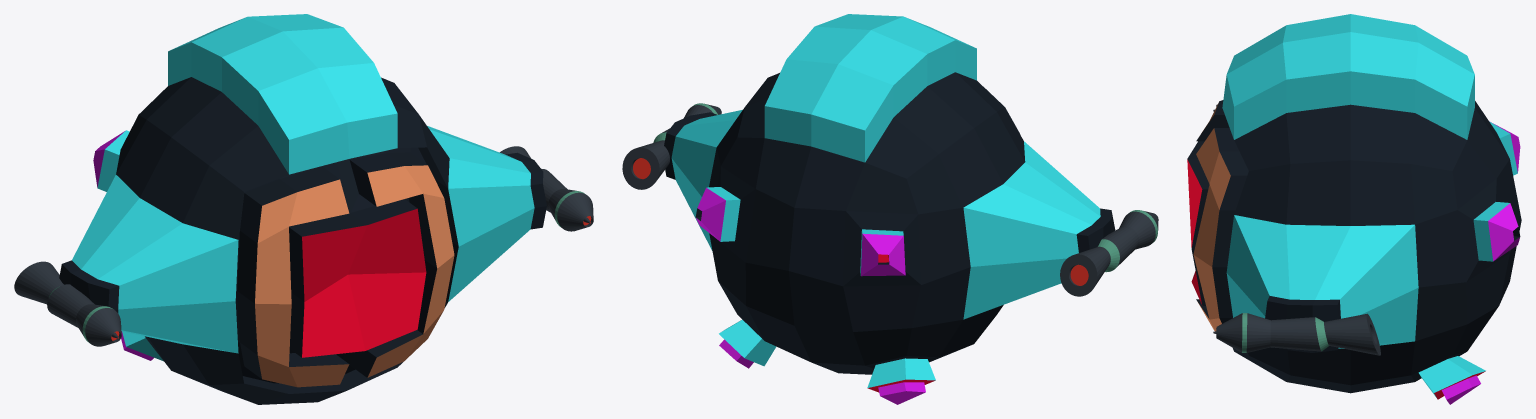
File: RobotV2 1.fbx
3 views of the same model, side by side, from view 1: azimuth 30°, elevation 25°; view 2: azimuth 150°, elevation 25°; view 3: azimuth 270°, elevation 25° (orthographic). The views are drawn at different scales.
Parts seen in each view (by area): view 1: RobotV2, Msissile; view 2: RobotV2, Msissile; view 3: RobotV2, Msissile.
Part boxes in pixels (<box>): RobotV2: <box>59,14,546,404</box>; Msissile: <box>14,146,593,346</box>; RobotV2: <box>664,14,1115,404</box>; Msissile: <box>622,103,1158,296</box>; RobotV2: <box>1187,14,1521,404</box>; Msissile: <box>1213,104,1380,355</box>.
Bounding box in the file's own units: 1.13 × 0.7493 × 0.6615.
